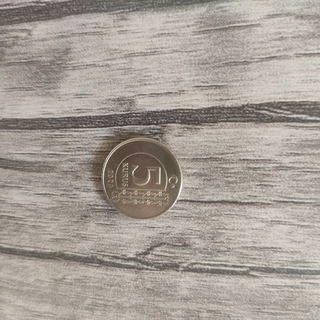5KURUS: (99, 136, 183, 220)
